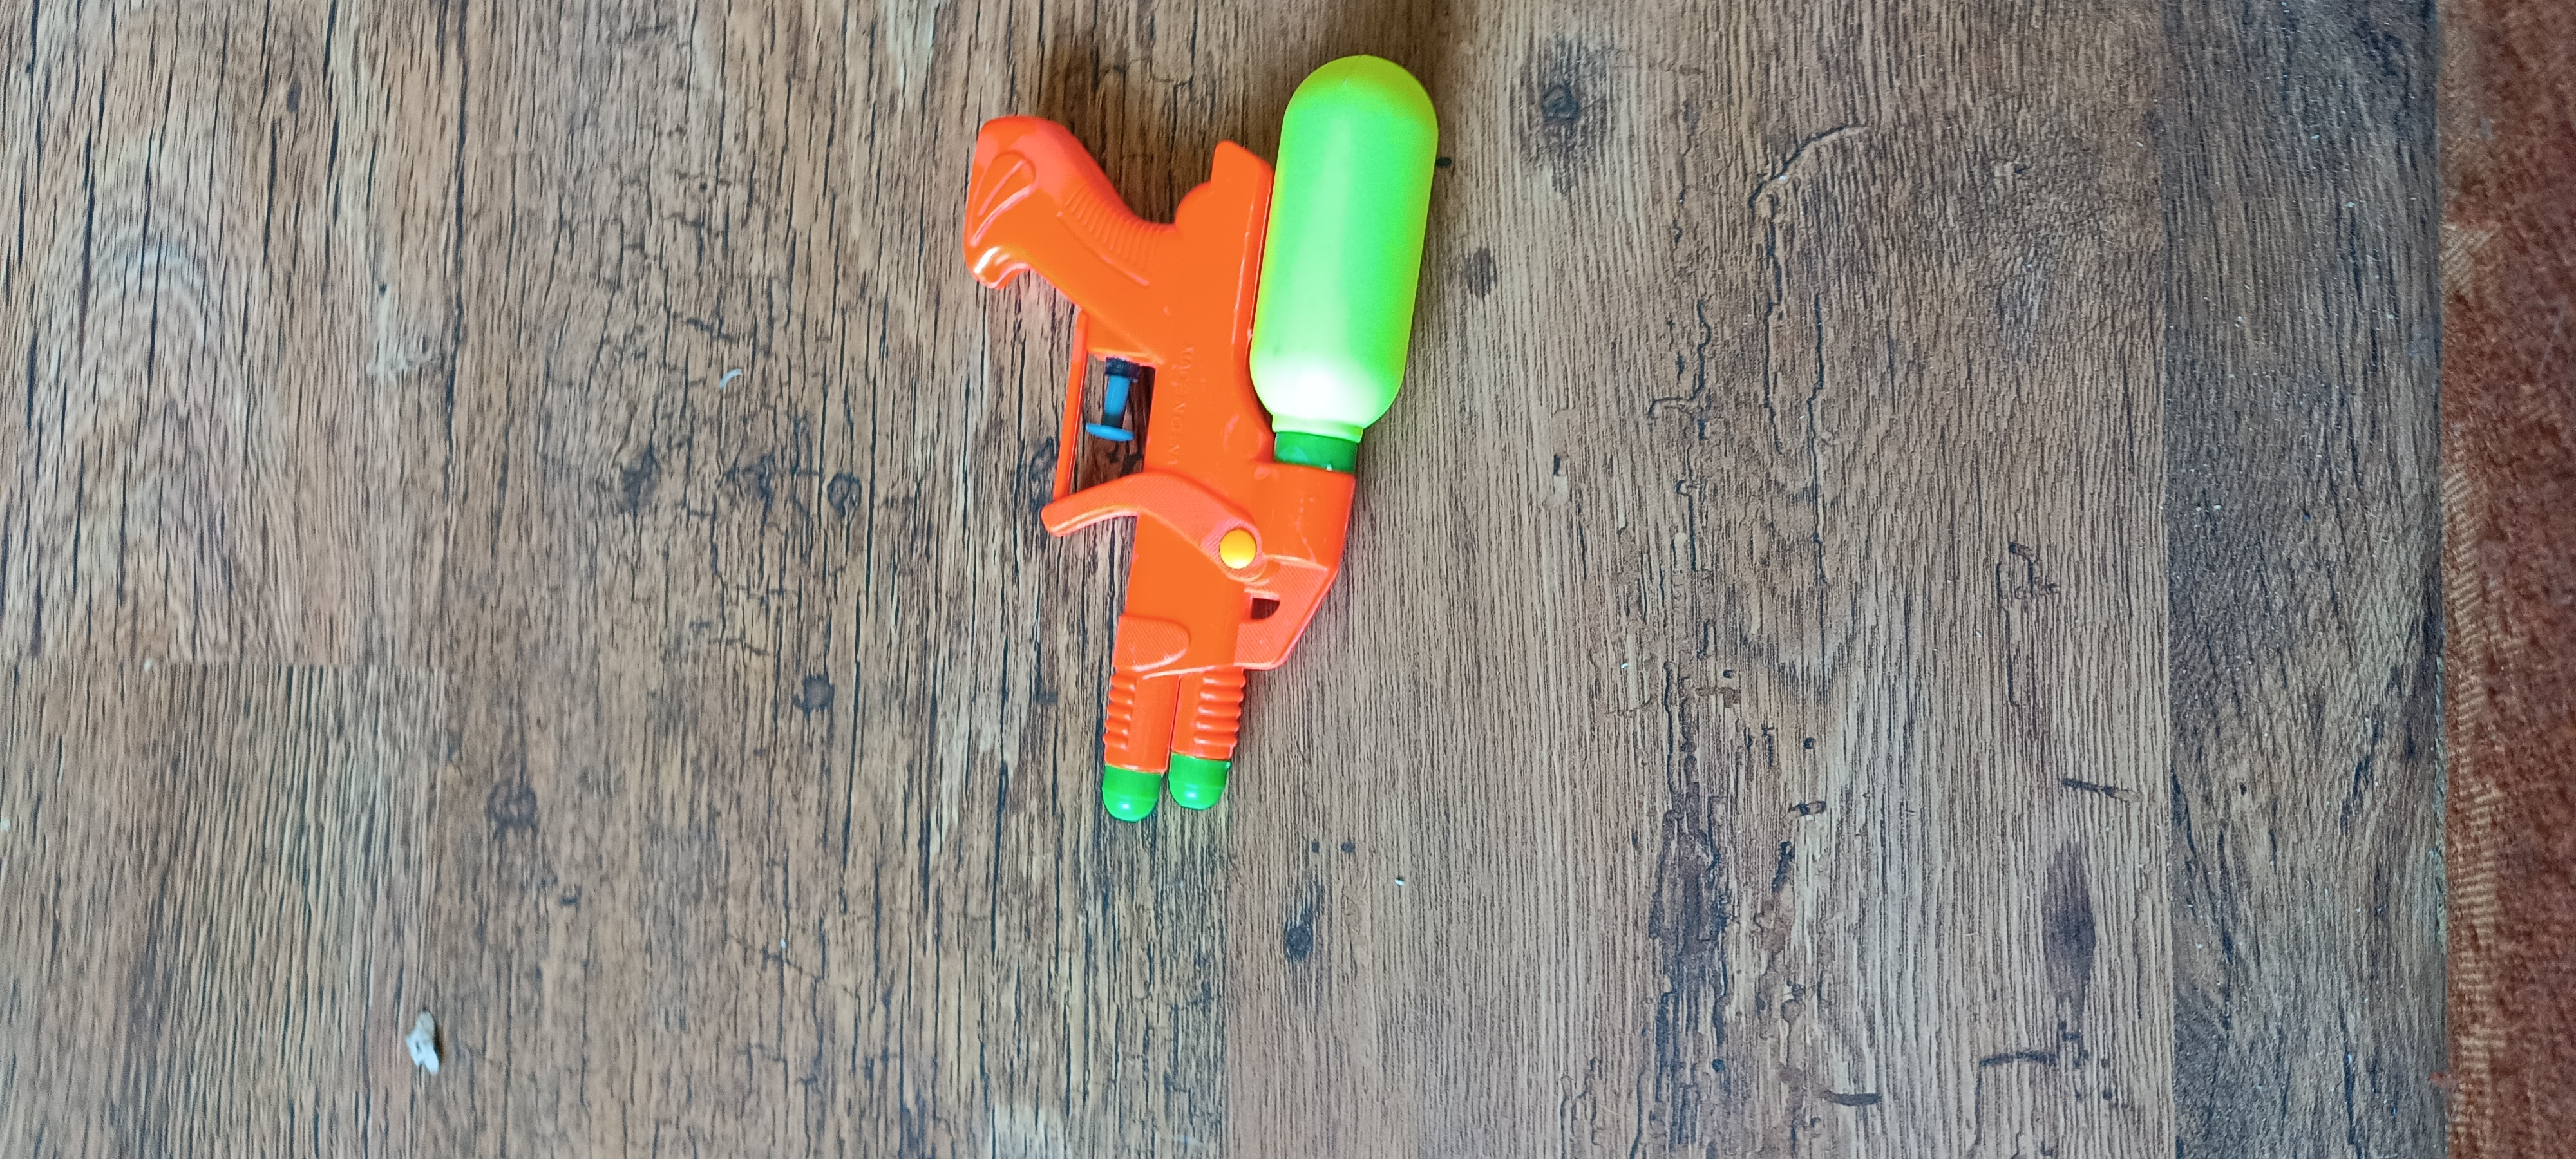Water Gun: (961, 54, 1442, 824)
